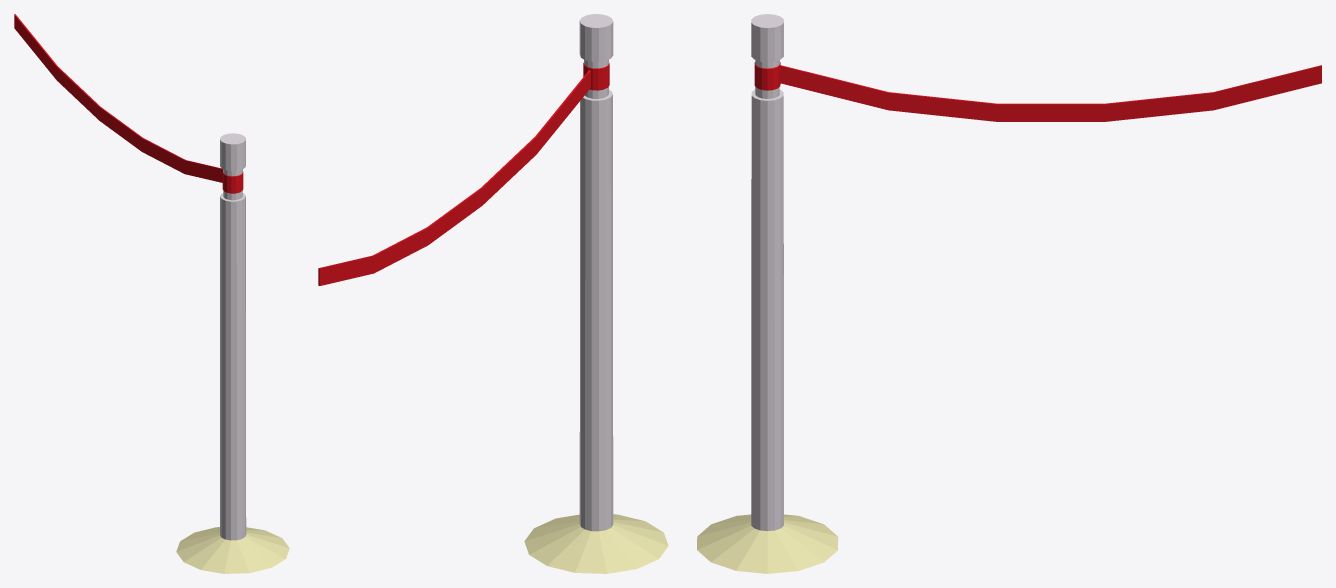
File: stolbsmertilentapidoras.fbx
The picture shows the model from 3 angles, left to right: view 1: azimuth 30°, elevation 25°; view 2: azimuth 150°, elevation 25°; view 3: azimuth 270°, elevation 25°; orthographic projection. The views are drawn at different scales.
Parts seen in each view (by area): view 1: Cylinder; view 2: Cylinder; view 3: Cylinder.
Part boxes in pixels (<box>): Cylinder: <box>14,14,289,573</box>; Cylinder: <box>318,14,668,573</box>; Cylinder: <box>697,14,1321,573</box>.
Size of the model in its own units: 26.06 by 104 by 113.
